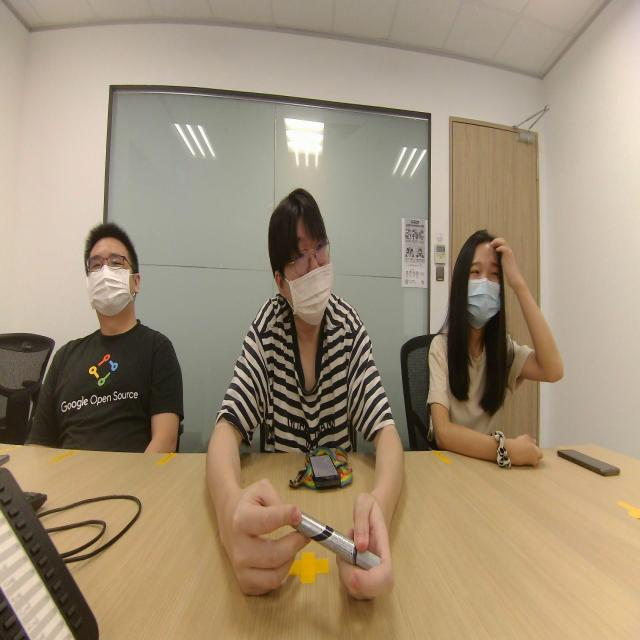obstacle: (205, 177, 387, 458), (25, 178, 182, 442), (410, 221, 537, 452)
